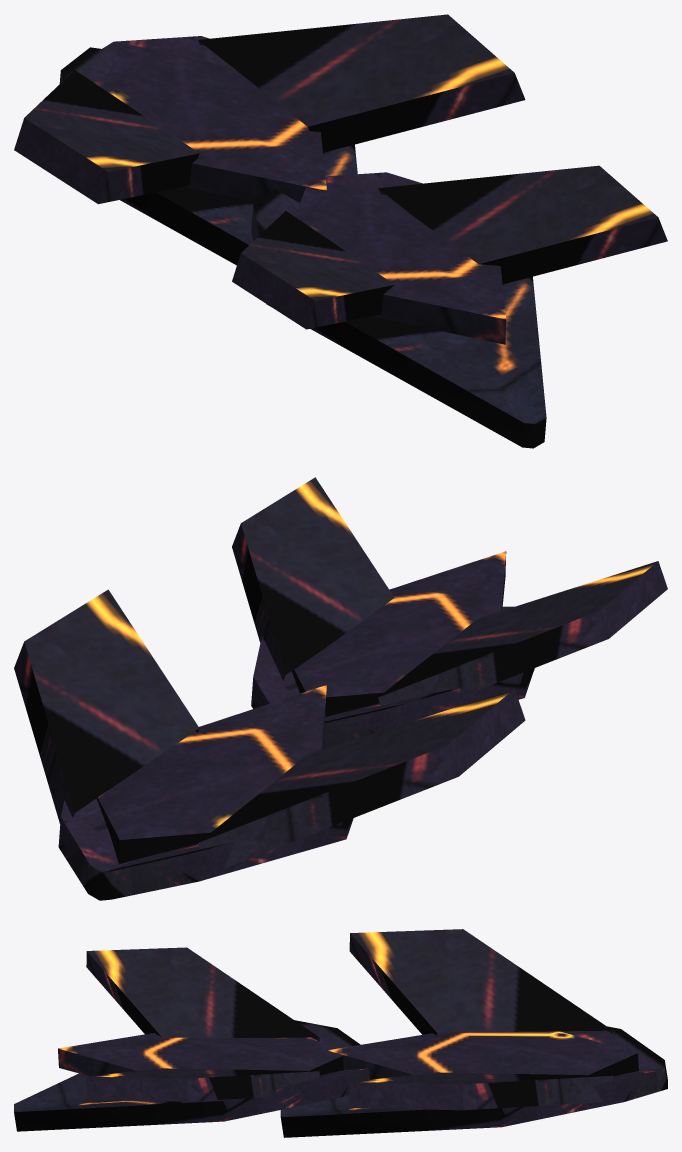
The model's file is ship16g.fbx.
3 views of the same model, one above another, from view 1: azimuth 30°, elevation 25°; view 2: azimuth 150°, elevation 25°; view 3: azimuth 270°, elevation 25° (orthographic). The views are drawn at different scales.
Visible parts, largest first — view 1: PipelineFBX; view 2: PipelineFBX; view 3: PipelineFBX.
Part boxes in pixels (<box>): PipelineFBX: <box>14,14,667,448</box>; PipelineFBX: <box>14,477,667,900</box>; PipelineFBX: <box>14,929,667,1137</box>.
Bounding box in the file's own units: 70.77 × 26.29 × 120.
1 material, 1 textured.
